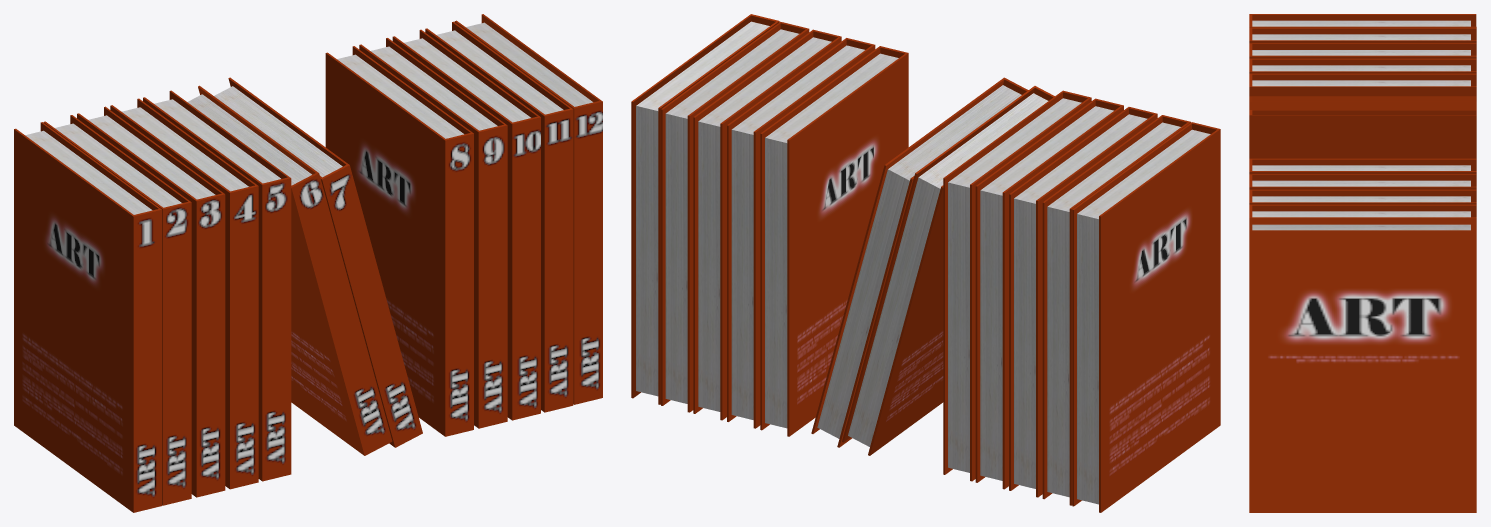
File: Books 5.FBX
3 views of the same model, side by side, from view 1: azimuth 30°, elevation 25°; view 2: azimuth 150°, elevation 25°; view 3: azimuth 270°, elevation 25° (orthographic). The views are drawn at different scales.
Visible parts, largest first — view 1: Books 5; view 2: Books 5; view 3: Books 5.
Boxes of the visible parts, x1,y1,x2,y2 form: Books 5: (14,14,602,512); Books 5: (631,14,1220,512); Books 5: (1249,14,1476,512).
Bounding box in the file's own units: 40.08 × 24.22 × 17.7.
1 material, 1 textured.
